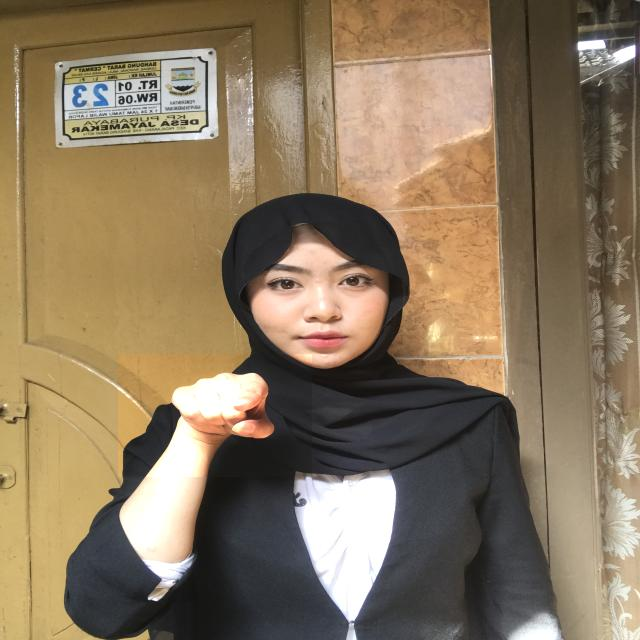kamu: (118, 354, 312, 477)
